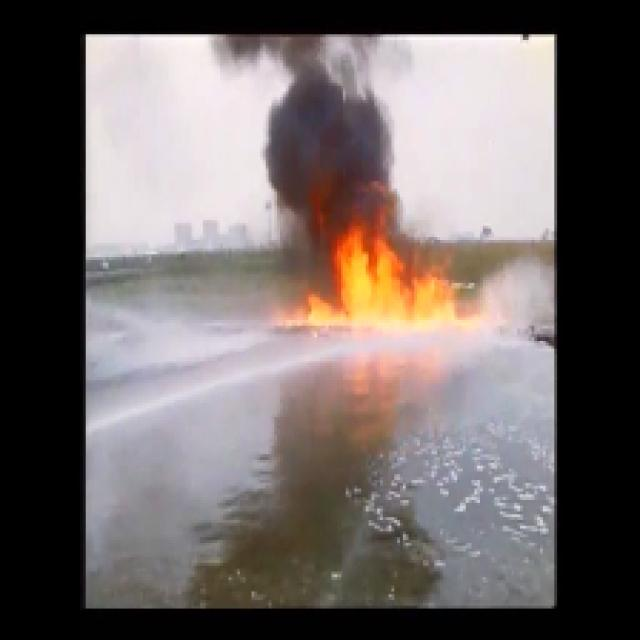fire: (314, 237, 464, 326)
smoke: (236, 35, 404, 226)
